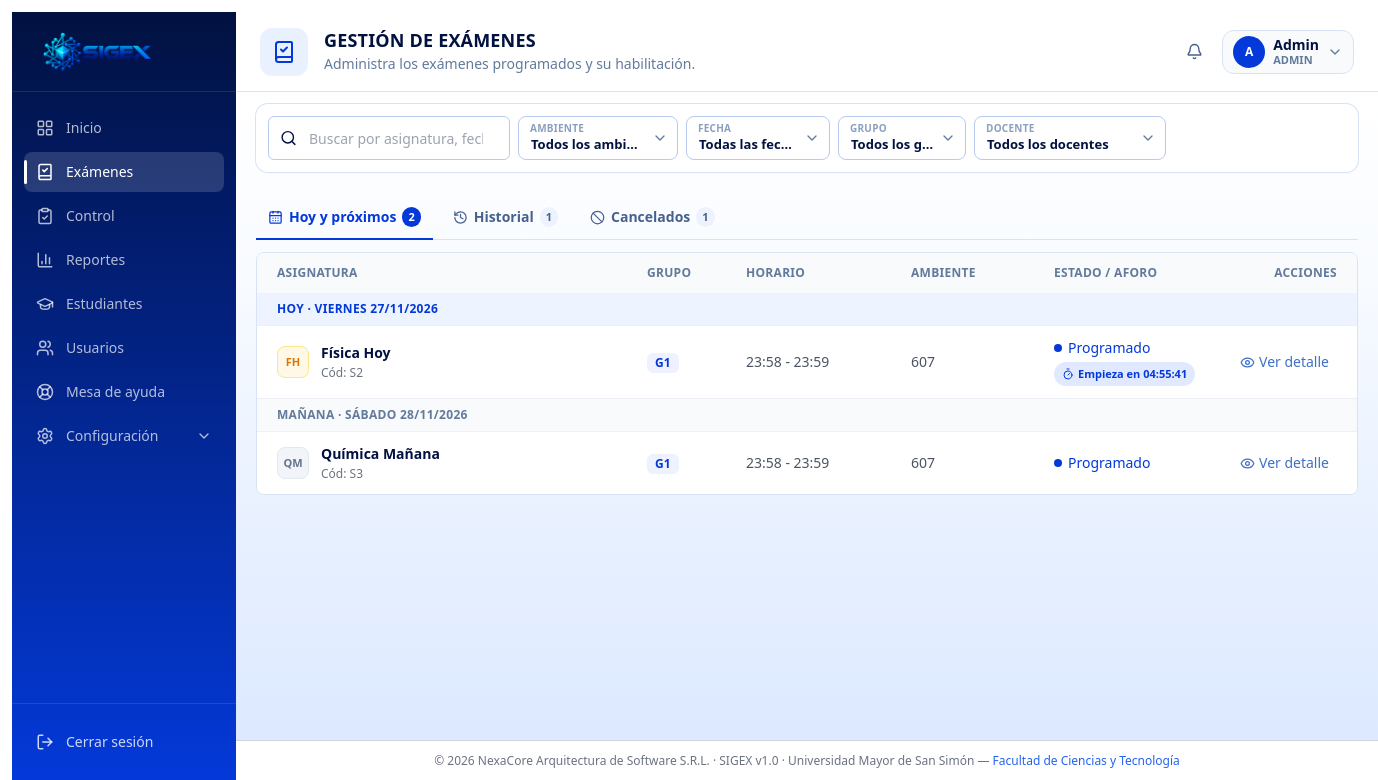
Test: Exámenes: hoy y próximos, historial y cancelados › los de días anteriores van al historial y los cancelados aparte
The width and height of the screenshot is (1378, 780).
Expected: the table is shown, [257,253,1357,494]
Click the tab "Historial 1".
click(505, 218)  # box [441,196,570,240]
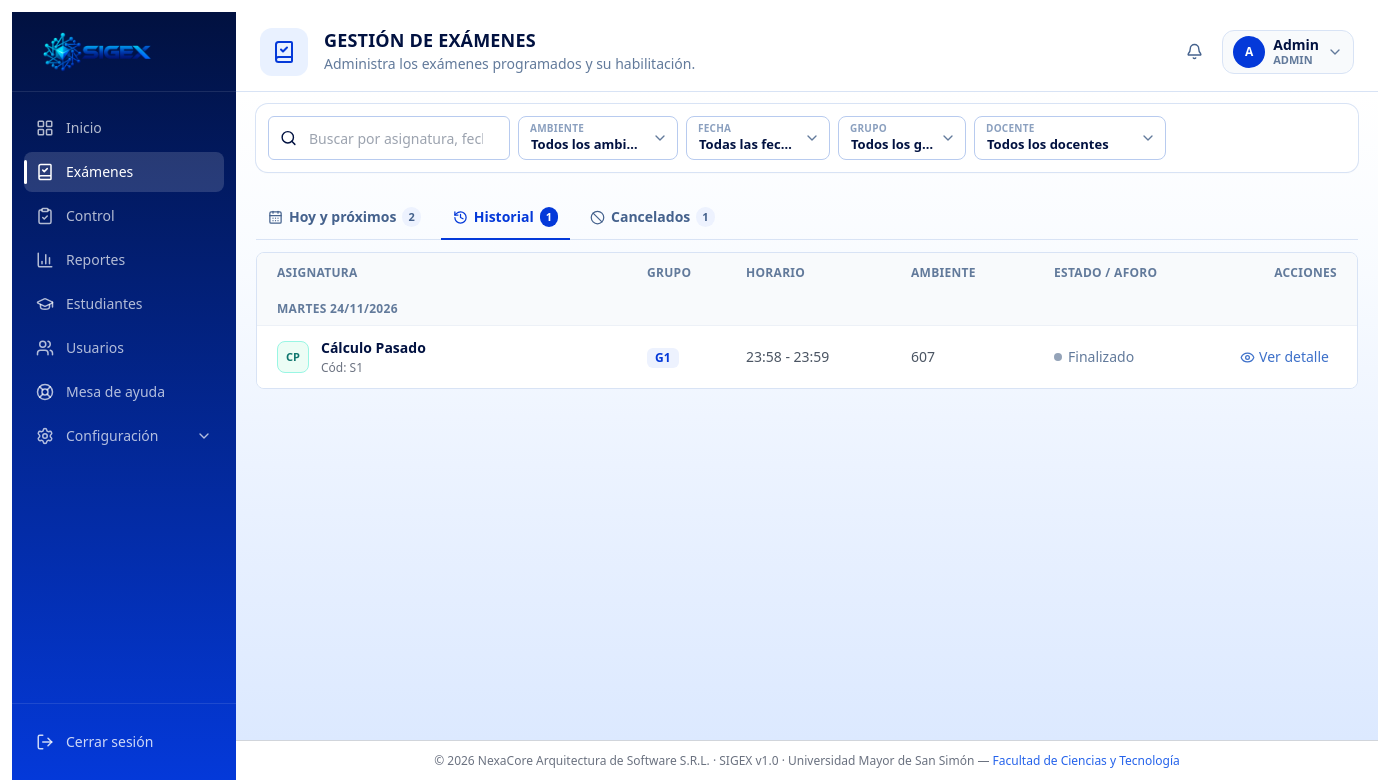
Result: the text "Cálculo Pasado" is shown at [321,338,426,358]
Result: the text "Física Hoy" is gone
Click the tab "Cancelados 1".
click(652, 218)  # box [578,196,727,240]
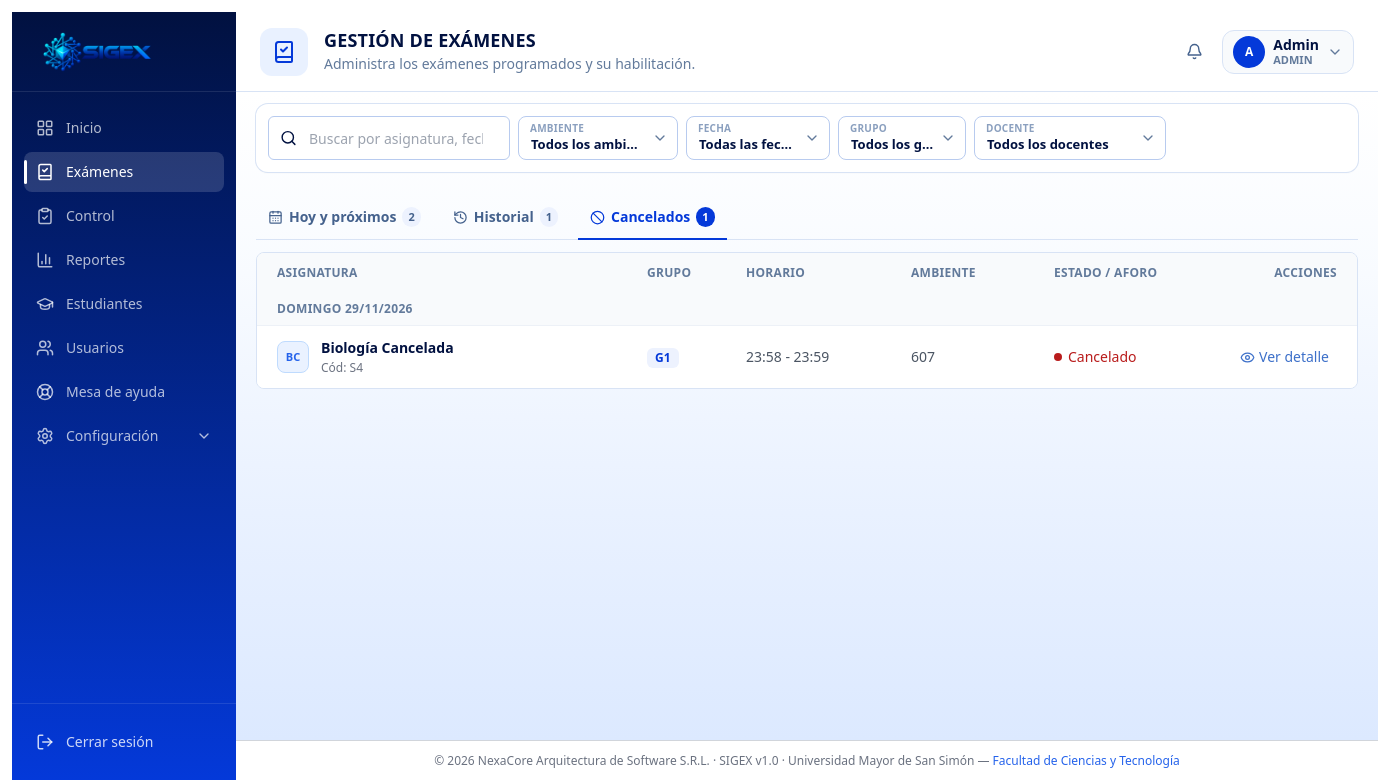
Result: the text "Biología Cancelada" is shown at [321,338,454,358]
Result: the text "Cálculo Pasado" is gone
